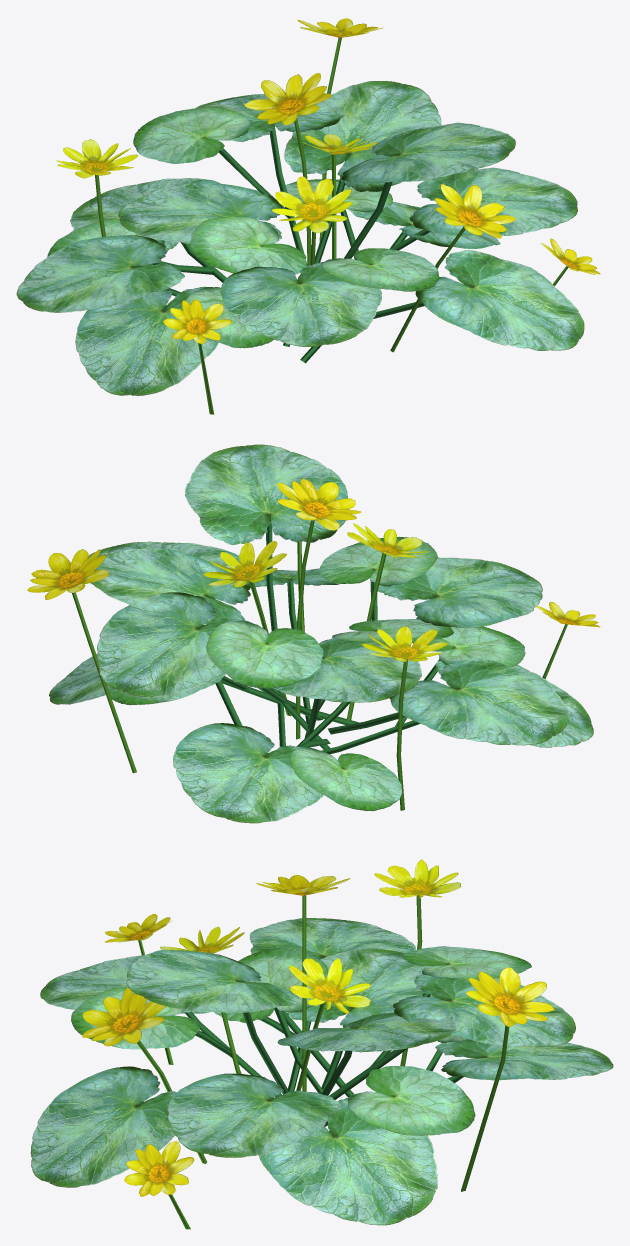
Rendered from m_flower03.fbx.
The picture shows the model from 3 angles, top to bottom: view 1: azimuth 30°, elevation 25°; view 2: azimuth 150°, elevation 25°; view 3: azimuth 270°, elevation 25°; orthographic projection. The views are drawn at different scales.
Parts seen in each view (by area): view 1: mesh_flower03; view 2: mesh_flower03; view 3: mesh_flower03.
Part boxes in pixels (<box>): mesh_flower03: <box>16,18,600,414</box>; mesh_flower03: <box>27,444,600,823</box>; mesh_flower03: <box>30,859,613,1229</box>.
Size of the model in its own units: 0.7207 by 0.3571 by 0.6835.
Materials: 1 (1 with a texture image).
